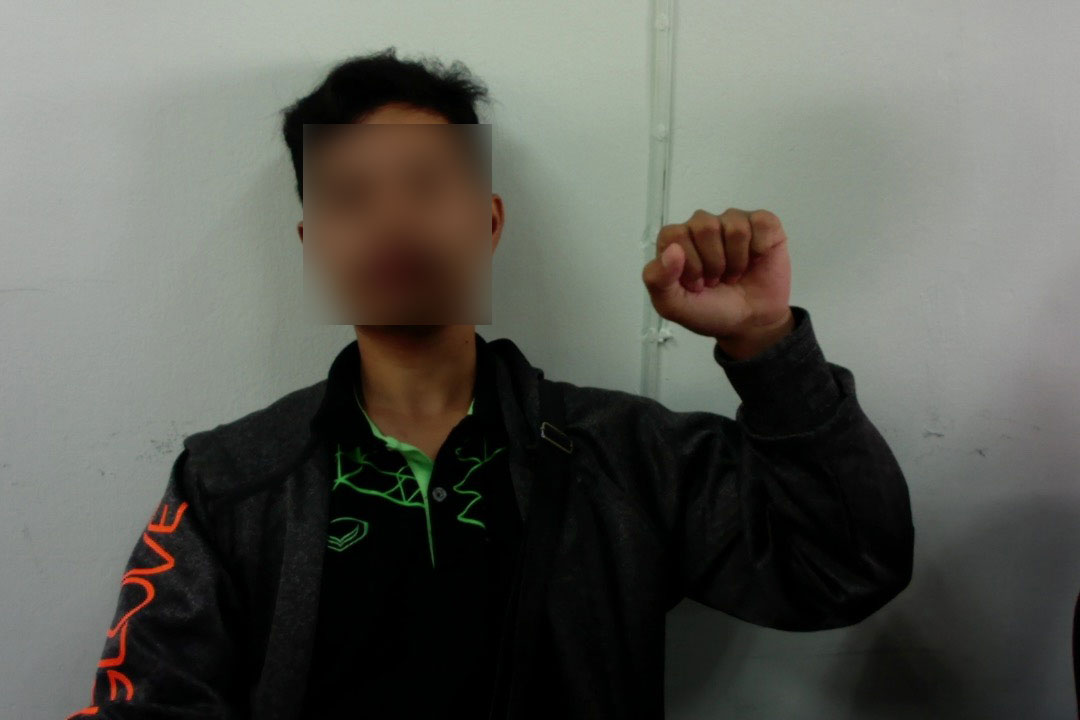or: (635, 204, 820, 366)
